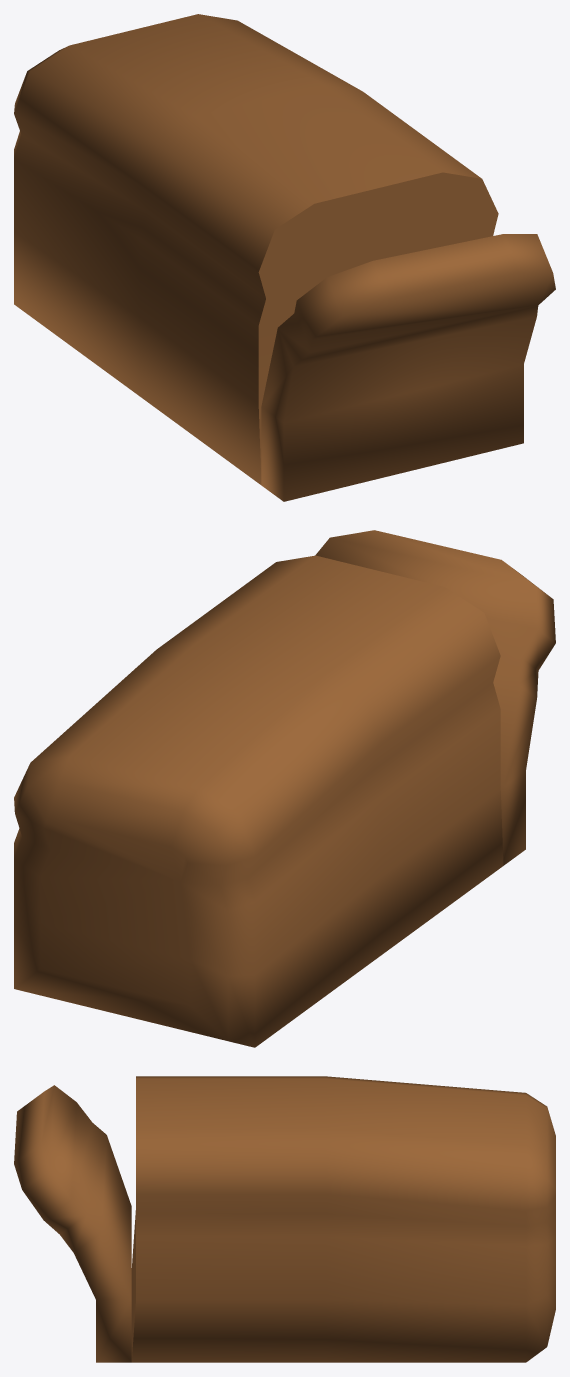
File: bread.fbx
The picture shows the model from 3 angles, top to bottom: view 1: azimuth 30°, elevation 25°; view 2: azimuth 150°, elevation 25°; view 3: azimuth 270°, elevation 25°; orthographic projection. The views are drawn at different scales.
Visible parts, largest first — view 1: bread; view 2: bread; view 3: bread.
Boxes of the visible parts, <box> form: bread: <box>14,14,555,501</box>; bread: <box>14,530,555,1047</box>; bread: <box>14,1076,555,1362</box>.
Bounding box in the file's own units: 3.2 × 7.81 × 3.37.
